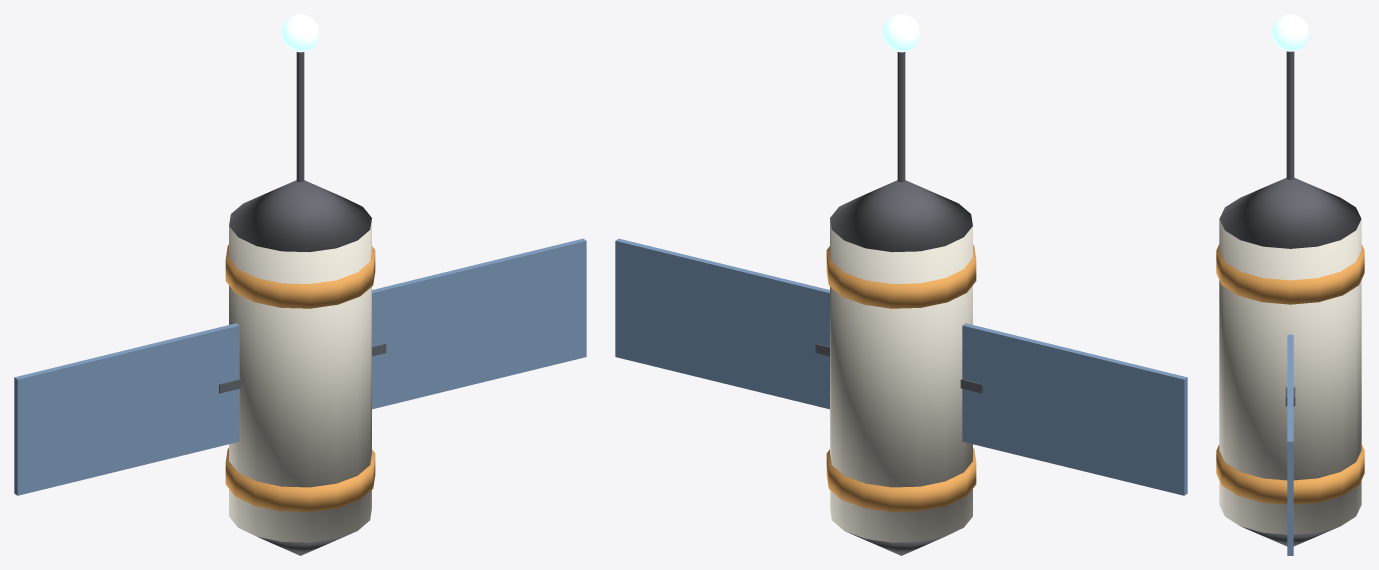
Rendered from SignalBeacon.fbx.
3 renders of one model, left to right at view 1: azimuth 30°, elevation 25°; view 2: azimuth 150°, elevation 25°; view 3: azimuth 270°, elevation 25°, orthographic.
Parts seen in each view (by area): view 1: Beacon, Lamp; view 2: Beacon, Lamp; view 3: Beacon, Lamp.
Part boxes in pixels (x1,y1,x2,y2): Beacon: (14,52,586,555); Lamp: (281,14,319,52); Beacon: (615,52,1187,555); Lamp: (882,14,920,52); Beacon: (1216,51,1364,555); Lamp: (1271,14,1309,51).
Size of the model in its own units: 4.1 by 3.72 by 0.94.
